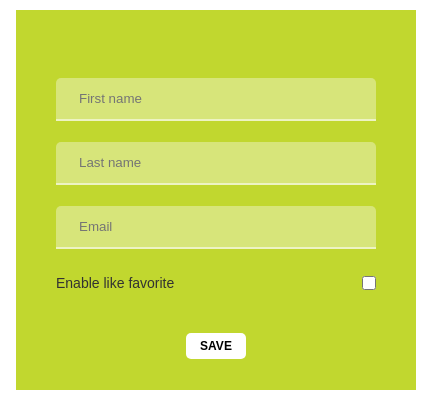
Test: NewContactForm › displays error message when fetch fails
Step 1. Type "John" into the field with placeholder "First name" → [216, 99], box [56, 78, 376, 120]
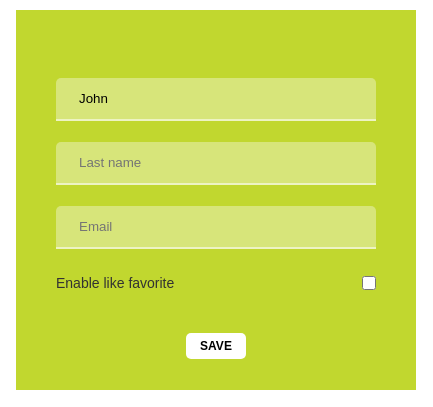
Step 2. Type "Doe" into the field with placeholder "Last name" → [216, 163], box [56, 142, 376, 185]
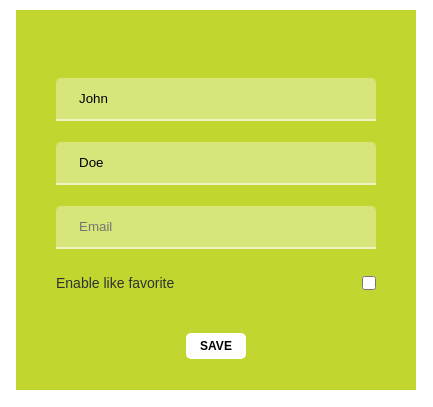
Step 3. Type "john.doe@example.com" into the field with placeholder "Email" → [216, 227], box [56, 206, 376, 249]
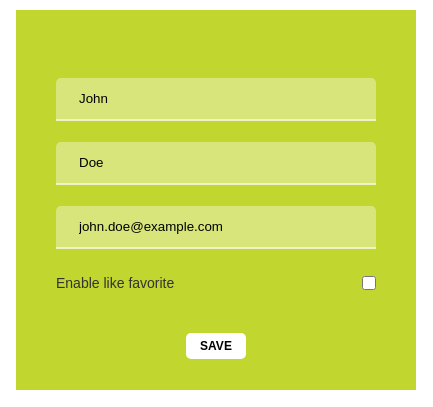
Step 4. Click the button "SAVE" → [216, 346], box [186, 333, 246, 359]
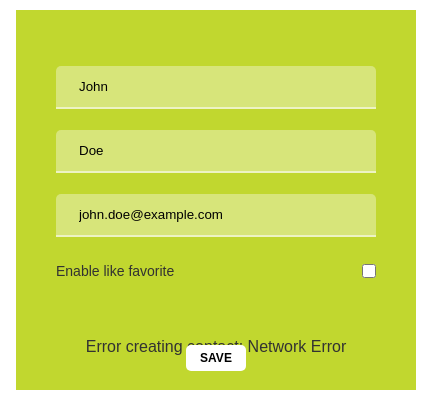
Now the text "Error creating contact: Network Error" is shown, box [86, 339, 346, 355]
